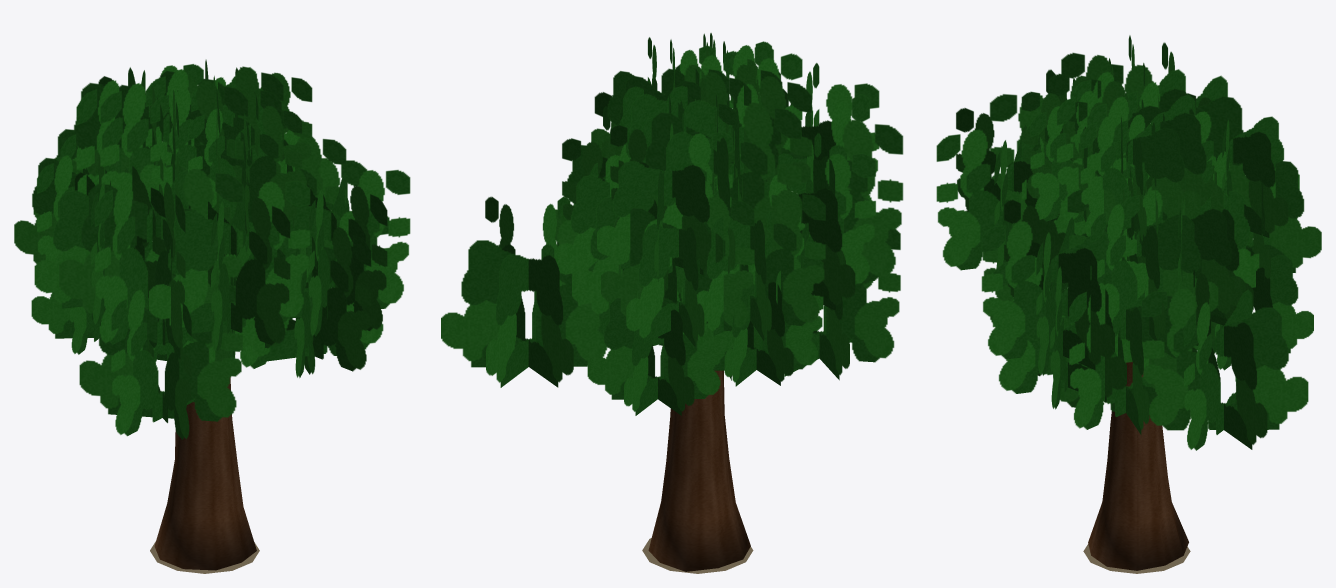
The model's file is oak_tree.glb.
3 views of the same model, side by side, from view 1: azimuth 30°, elevation 25°; view 2: azimuth 150°, elevation 25°; view 3: azimuth 270°, elevation 25° (orthographic). The views are drawn at different scales.
Parts seen in each view (by area): view 1: oak_tree; view 2: oak_tree; view 3: oak_tree.
Part boxes in pixels (x1,y1,x2,y2): oak_tree: [14, 59, 410, 573]; oak_tree: [441, 33, 903, 573]; oak_tree: [936, 35, 1321, 573].
Bounding box in the file's own units: 3.65 × 4.94 × 3.58.
Materials: 3 (2 with a texture image).
